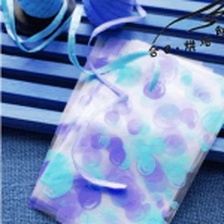snack: (20, 24, 223, 224)
